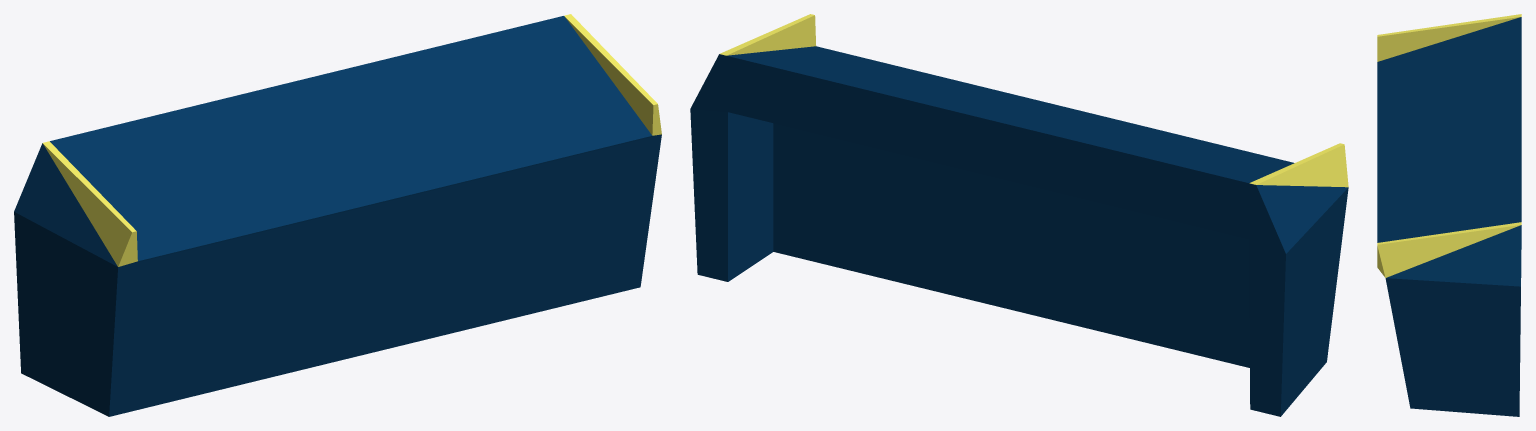
File: SM_Hub_Desk_01.fbx
3 renders of one model, left to right at view 1: azimuth 30°, elevation 25°; view 2: azimuth 150°, elevation 25°; view 3: azimuth 270°, elevation 25°, orthographic. The views are drawn at different scales.
Parts seen in each view (by area): view 1: check_in_desk; view 2: check_in_desk; view 3: check_in_desk.
Boxes of the visible parts, x1=… form: check_in_desk: x1=14, y1=14, x2=661, y2=416; check_in_desk: x1=690, y1=14, x2=1348, y2=416; check_in_desk: x1=1377, y1=14, x2=1521, y2=416.
Size of the model in its own units: 17.83 by 6.5 by 4.66.
